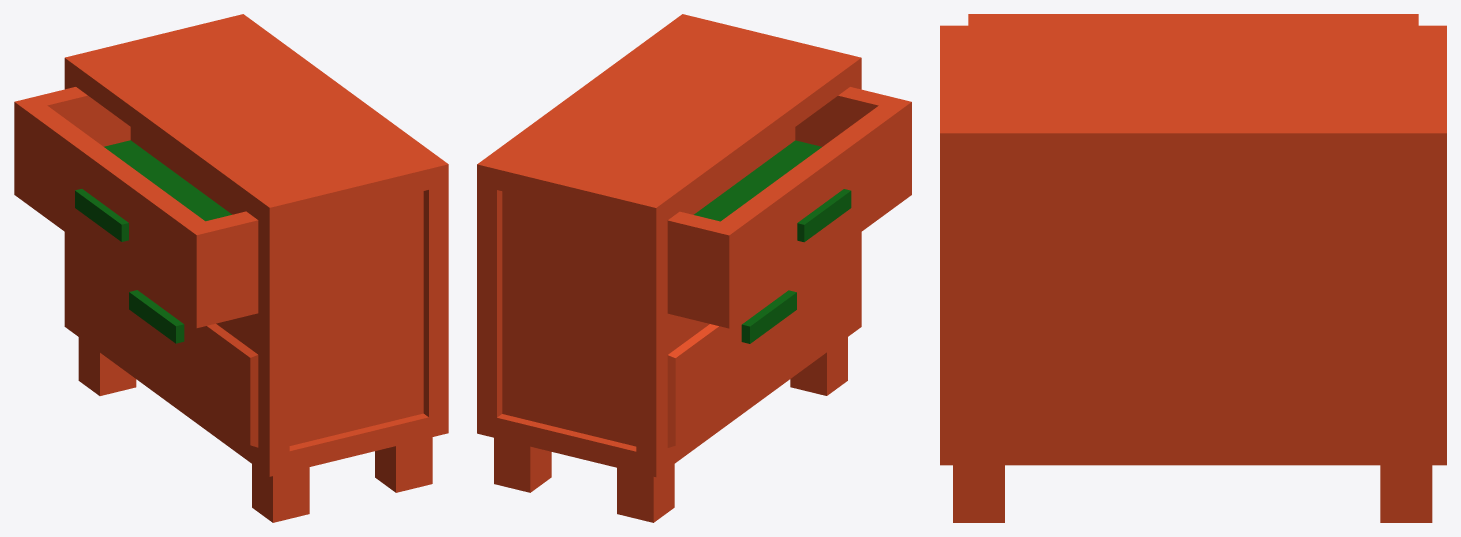
Rendered from TG_chuangtougui.FBX.
The picture shows the model from 3 angles, left to right: view 1: azimuth 30°, elevation 25°; view 2: azimuth 150°, elevation 25°; view 3: azimuth 270°, elevation 25°; orthographic projection. The views are drawn at different scales.
Parts seen in each view (by area): view 1: chuangtougui; view 2: chuangtougui; view 3: chuangtougui.
Boxes of the visible parts, left/top/right/bottom form: chuangtougui: left=14, top=14, right=448, bottom=522; chuangtougui: left=477, top=14, right=911, bottom=522; chuangtougui: left=940, top=14, right=1446, bottom=522.
Size of the model in its own units: 30.93 by 38.29 by 44.38.
